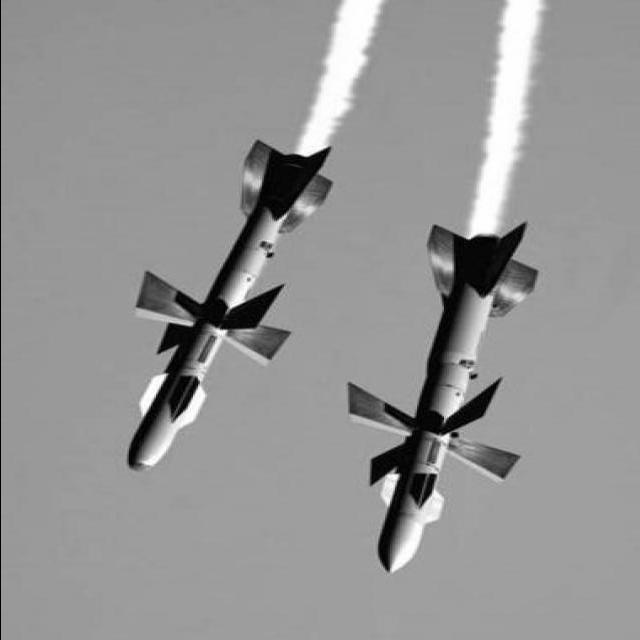missile: (93, 125, 342, 482), (340, 198, 549, 585)
